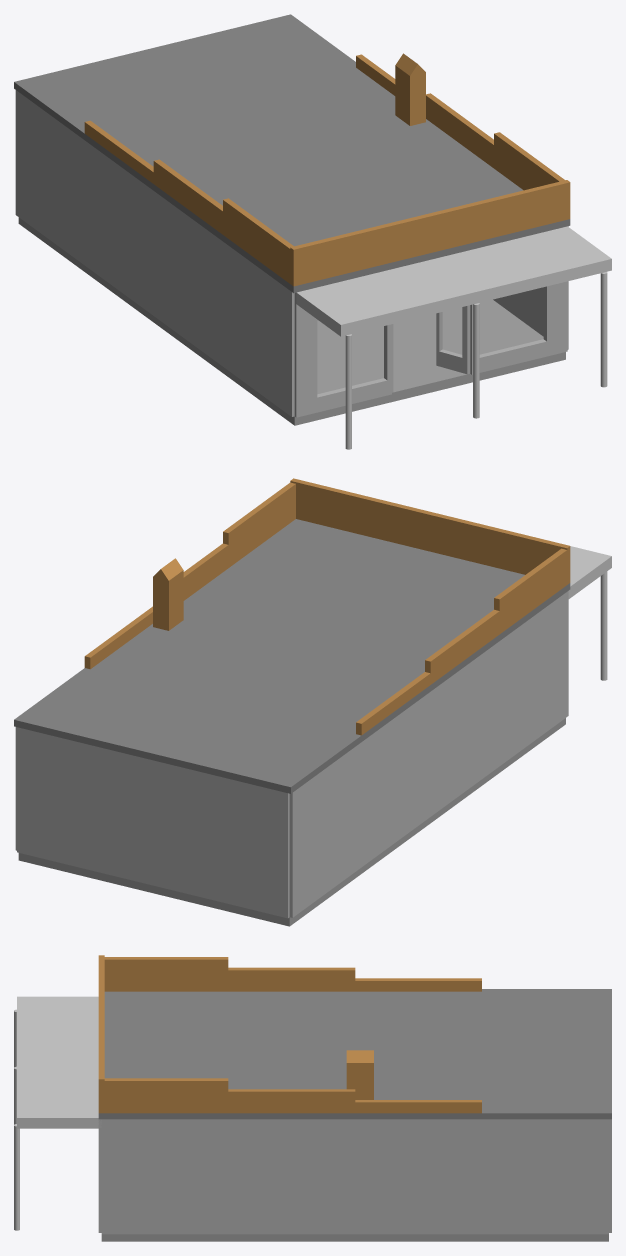
File: building_phase_1a_iter_044.glb
3 renders of one model, top to bottom at view 1: azimuth 30°, elevation 25°; view 2: azimuth 150°, elevation 25°; view 3: azimuth 270°, elevation 25°, orthographic. The views are drawn at different scales.
Visible parts, largest first — view 1: Roof, Wall_Left, Canopy_Roof, Foundation, Parapet_Front, Wall_Front, Parapet_Left_Level_1, Parapet_Right_Level_1, Parapet_Left_Level_2, Parapet_Right_Level_2, Chimney, Wall_Right (+6 smaller); view 2: Roof, Wall_Left, Wall_Rear, Parapet_Front, Foundation, Parapet_Left_Level_1, Parapet_Right_Level_1, Parapet_Left_Level_2, Chimney, Canopy_Roof, Parapet_Right_Level_2, Parapet_Left_Level_3 (+2 smaller); view 3: Wall_Right, Roof, Canopy_Roof, Parapet_Right_Level_1, Parapet_Left_Level_1, Foundation, Parapet_Left_Level_2, Parapet_Right_Level_2, Parapet_Left_Level_3, Parapet_Right_Level_3, Parapet_Front, Chimney (+2 smaller).
Part boxes in pixels (x1,y1,x2,y2): Roof: (14,14,570,293); Wall_Left: (15,90,294,416); Canopy_Roof: (296,226,611,336); Foundation: (18,217,565,425); Parapet_Front: (290,180,570,286); Wall_Front: (294,281,567,417); Parapet_Left_Level_1: (223,198,293,283); Parapet_Right_Level_1: (494,132,564,190); Parapet_Left_Level_2: (153,159,222,234); Parapet_Right_Level_2: (426,93,493,168); Chimney: (395,65,425,125); Wall_Right: (493,226,568,349); Roof: (14,519,570,793); Wall_Left: (289,591,568,917); Wall_Rear: (17,727,289,918); Parapet_Front: (290,478,570,584); Foundation: (18,718,565,926); Parapet_Left_Level_1: (494,548,567,633); Parapet_Right_Level_1: (223,482,295,567); Parapet_Left_Level_2: (425,609,499,684); Chimney: (153,570,183,630); Canopy_Roof: (568,546,611,598); Parapet_Right_Level_2: (183,543,228,600); Parapet_Left_Level_3: (356,672,430,735); Wall_Right: (101,1119,608,1234); Roof: (98,989,611,1119); Canopy_Roof: (17,996,101,1128); Parapet_Right_Level_1: (101,1078,228,1113); Parapet_Left_Level_1: (104,957,228,991); Foundation: (101,1234,608,1241); Parapet_Left_Level_2: (228,967,355,991); Parapet_Right_Level_2: (228,1089,355,1113); Parapet_Left_Level_3: (355,978,481,991); Parapet_Right_Level_3: (355,1100,481,1113); Parapet_Front: (98,955,104,1113); Chimney: (346,1063,373,1099).
Bounding box in the file's own units: 8.68 × 6.03 × 17.68.
